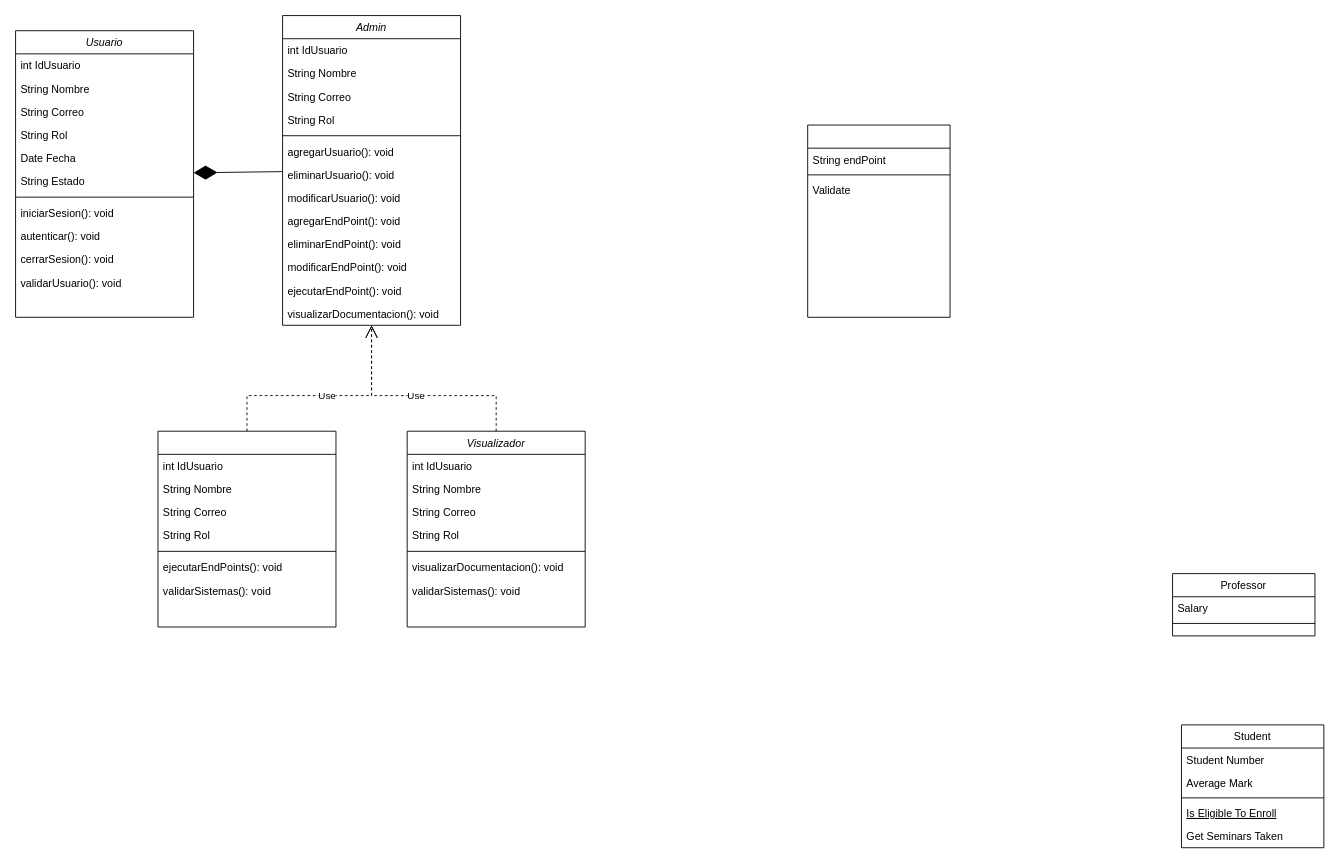
Some shapes in this 1339 by 866 pixel diagram are drawn without their labels. Each missing label, with the box of its shape:
API: (807, 124, 950, 317)
Tecnico: (157, 430, 336, 627)
